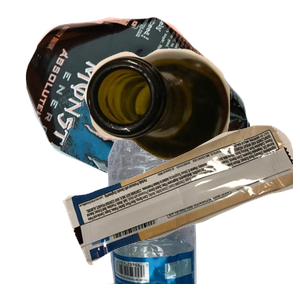glass: (82, 46, 300, 199)
metal: (23, 15, 263, 195)
plastic: (96, 120, 285, 300)
trash: (60, 123, 300, 300)
